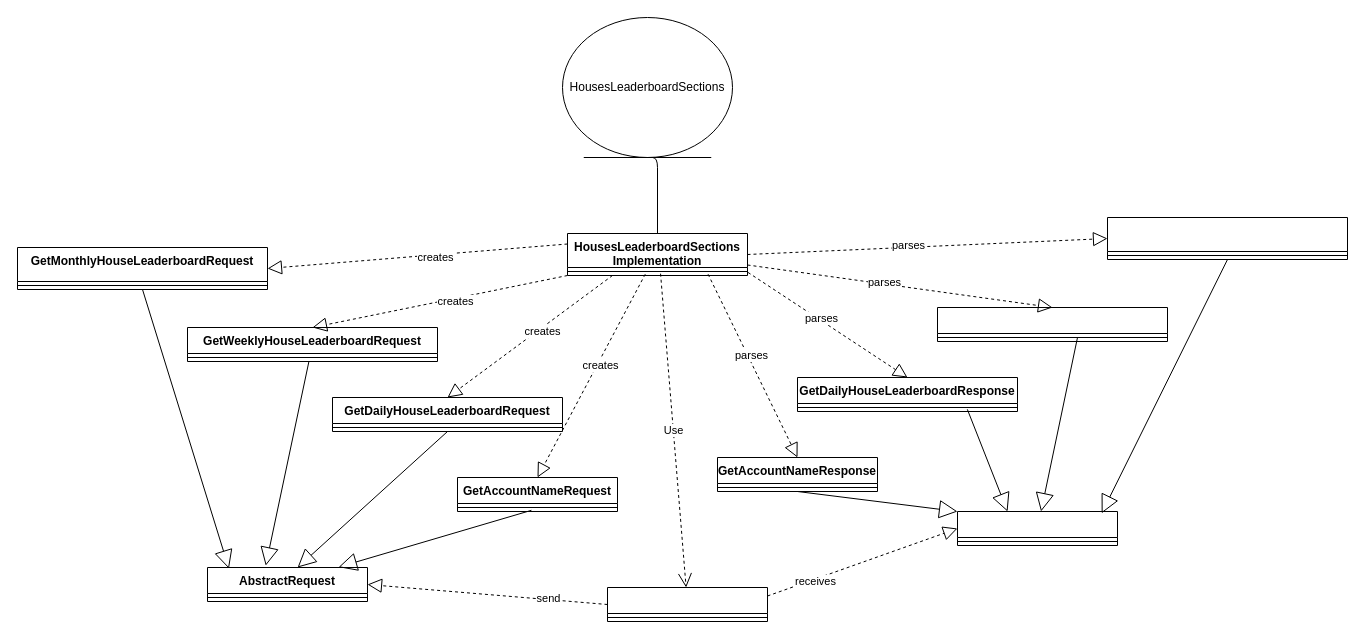
Image size: 1365x639. Some labels were removed from this diagram. The centre of each missing label's shape, as x and y in pixels:
"AbstractResponse" goes at (x=1037, y=528).
"API AplicationConnection" goes at (x=687, y=604).
"GetMonthlyHouseLeaderboardResponse" goes at (x=1227, y=238).
"GetWeeklyHouseLeaderboardRespone" goes at (x=1052, y=324).
